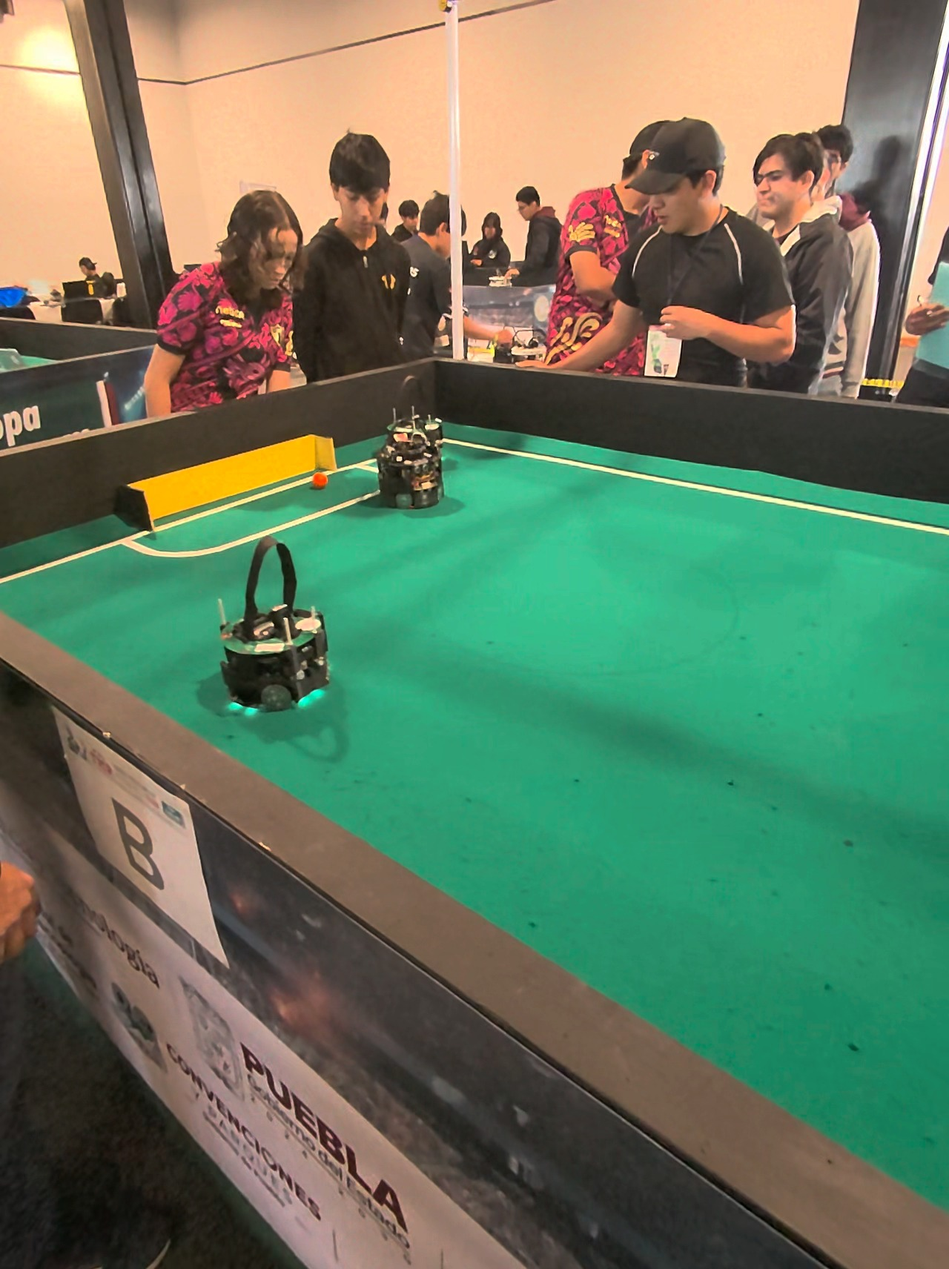Robot: (204, 524, 336, 737), (375, 371, 450, 511)
pelota: (312, 472, 328, 493)
